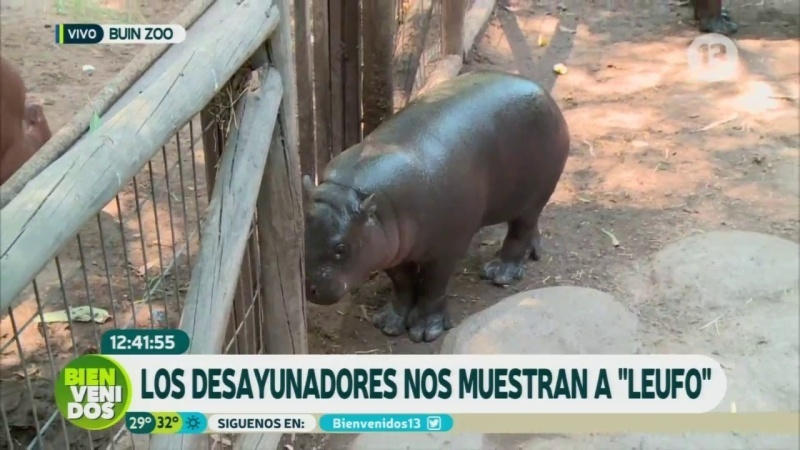hipopotamo: (276, 63, 607, 347)
